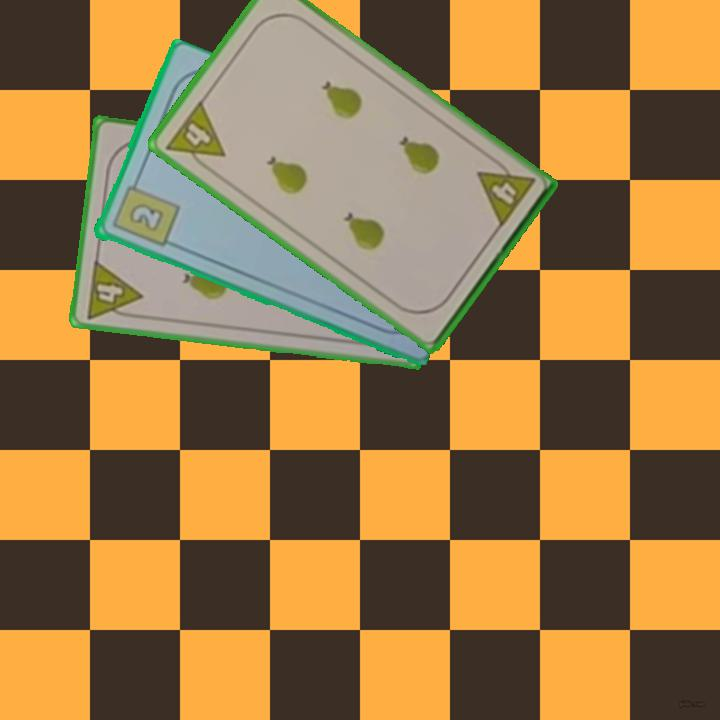2b: (108, 174, 182, 251)
4p: (162, 96, 228, 177), (473, 153, 538, 231), (82, 256, 145, 322)
